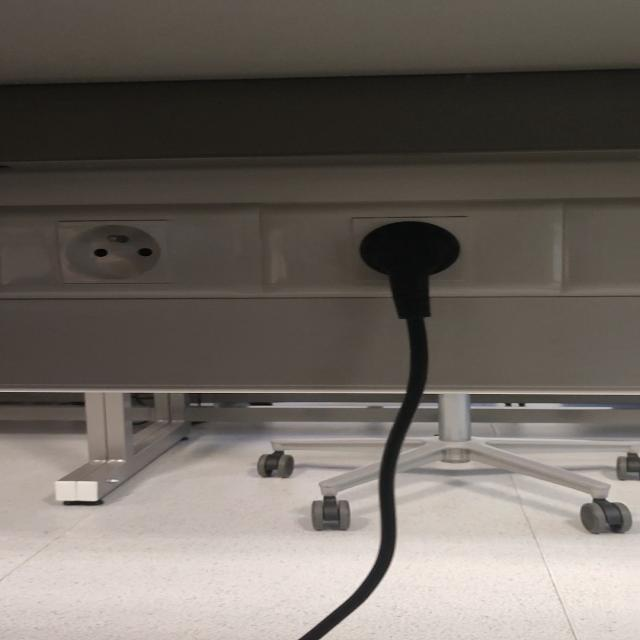house plug: (55, 218, 187, 288)
